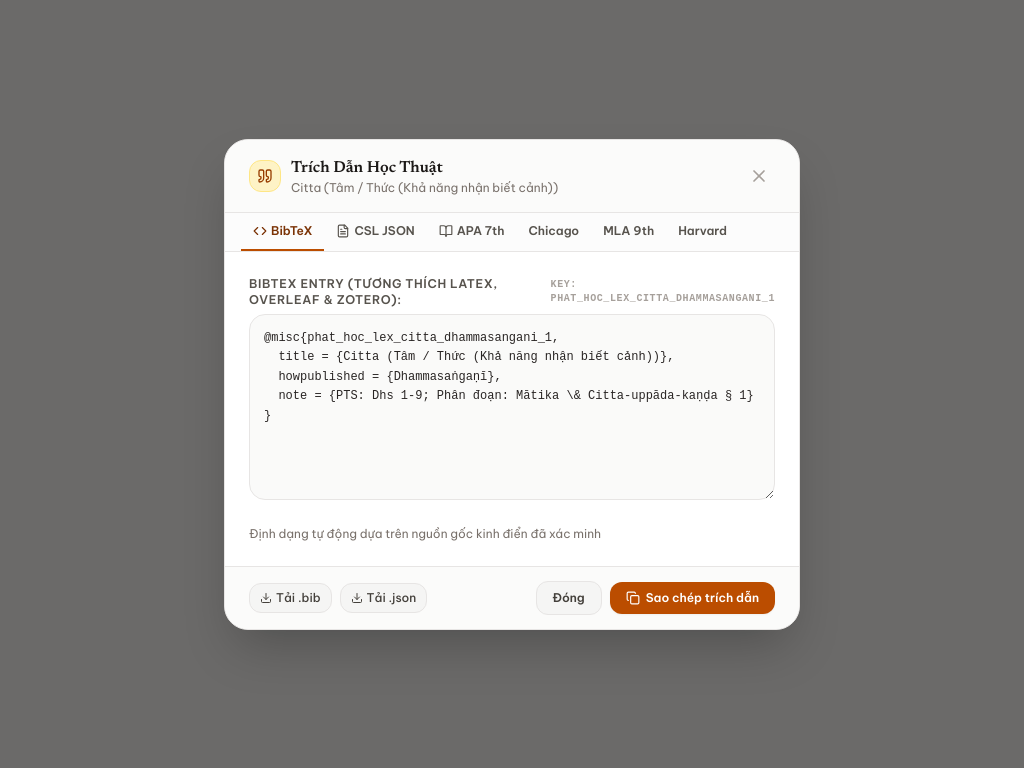
Test case: Phase D: Scholar Citation Modal UI Component › 3. Switches format and displays accurate APA 7th preview
Click the button "APA 7th" at (472, 232), box [427, 212, 516, 250]
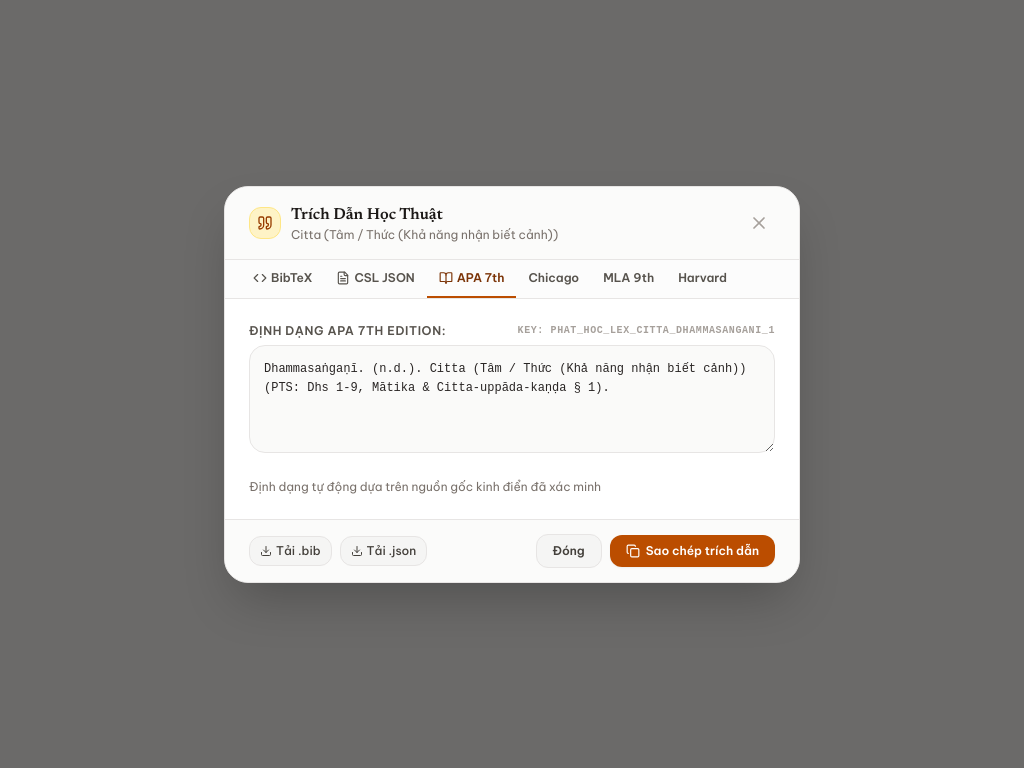
Now the text box with test id "scholar-citation-preview" holds "Dhammasaṅgaṇī. (n.d.). Citta (Tâm / Thức (Khả năng nhận biết cảnh)) (PTS: Dhs 1-9, Mātika & Citta-uppāda-kaṇḍa § 1).", box [249, 344, 775, 452]
